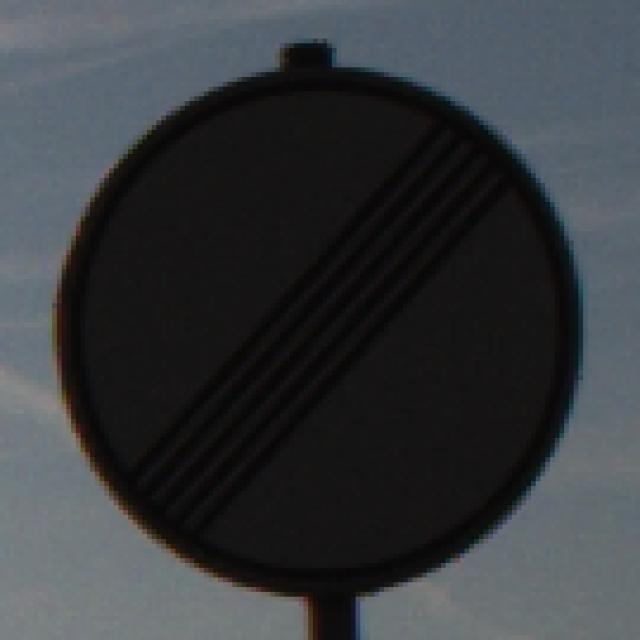restriction ends: (60, 60, 586, 597)
